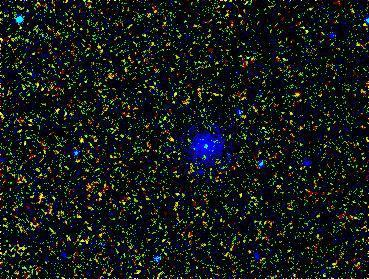star: (192, 140, 222, 170)
